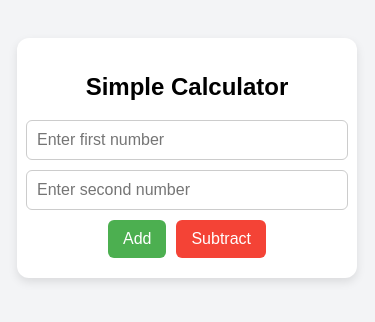
Test: displays error on server error
In the number field with placeholder "Enter first number": (187, 140) [26,120,348,160], type "100"
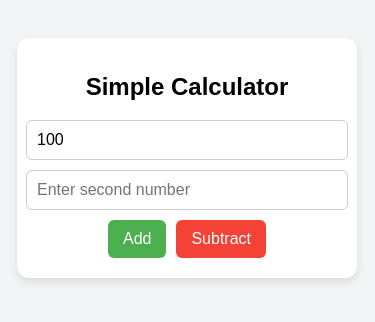
In the number field with placeholder "Enter second number": (187, 190) [26,170,348,210], type "200"
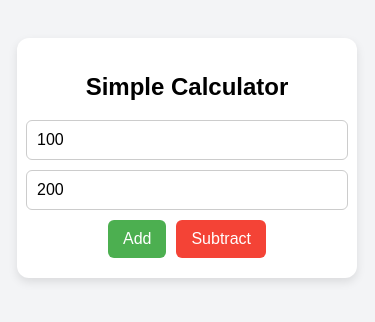
Click the button "Add": (137, 239) [108,220,166,258]
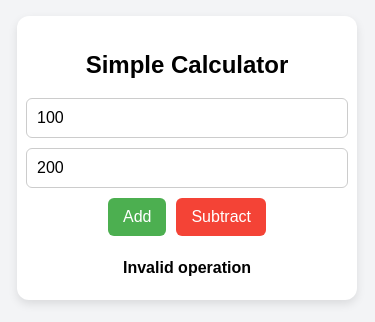
Check: the text "Invalid operation" is shown, box [123,256,251,280]
